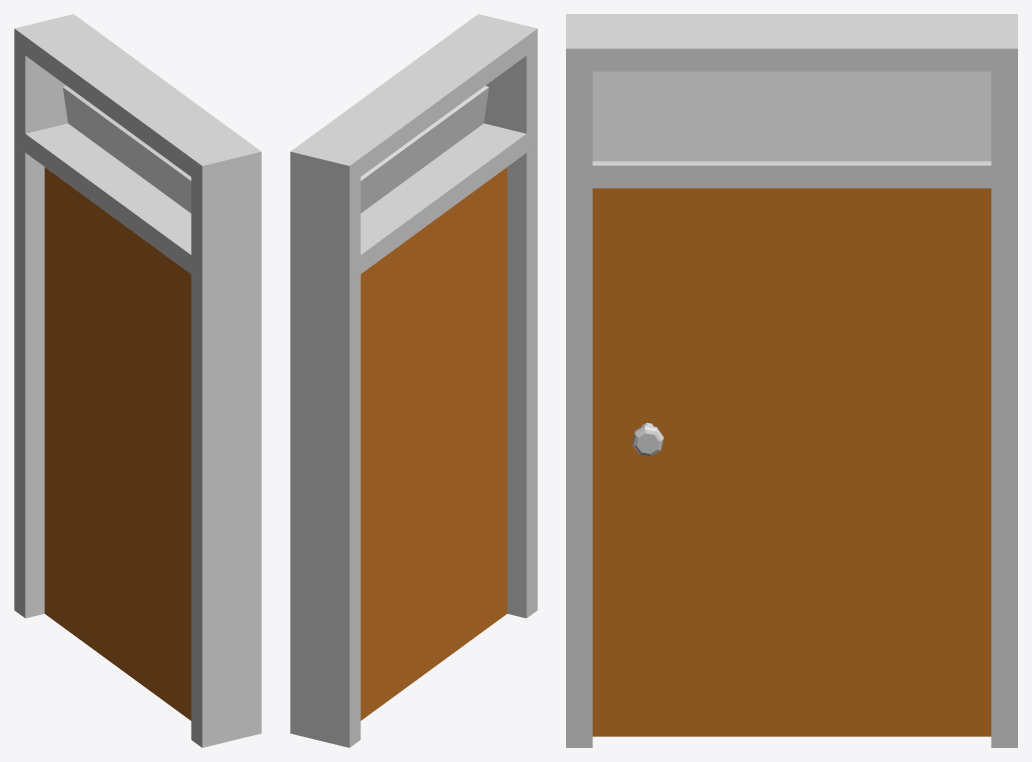
File: Pintu 2.fbx
3 views of the same model, side by side, from view 1: azimuth 30°, elevation 25°; view 2: azimuth 150°, elevation 25°; view 3: azimuth 270°, elevation 25° (orthographic). The views are drawn at different scales.
Parts seen in each view (by area): view 1: kaca.002; view 2: kaca.002; view 3: kaca.002.
Boxes of the visible parts, box(x1,y1,x2,y2) form: kaca.002: box(14, 14, 261, 747); kaca.002: box(290, 14, 537, 747); kaca.002: box(566, 14, 1017, 747).
Size of the model in its own units: 233 by 2016 by 1181.
